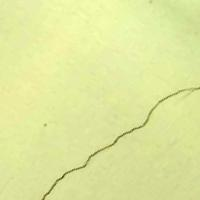crack: (39, 85, 197, 199)
